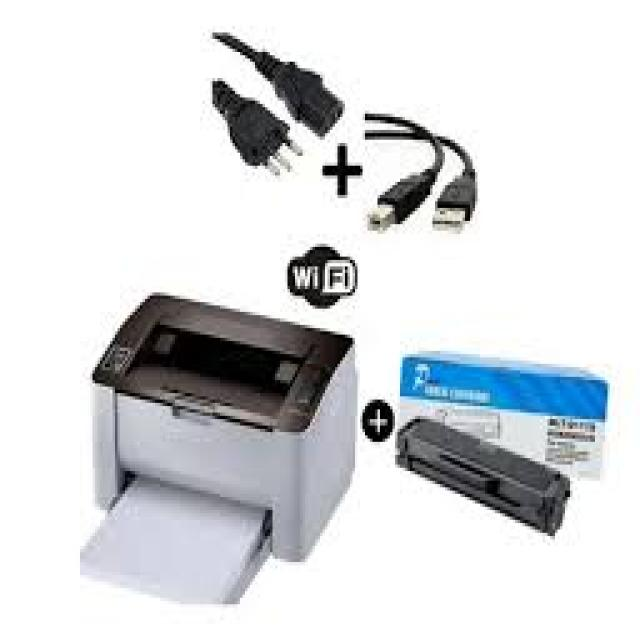printer: (68, 287, 366, 614), (396, 414, 572, 546)
